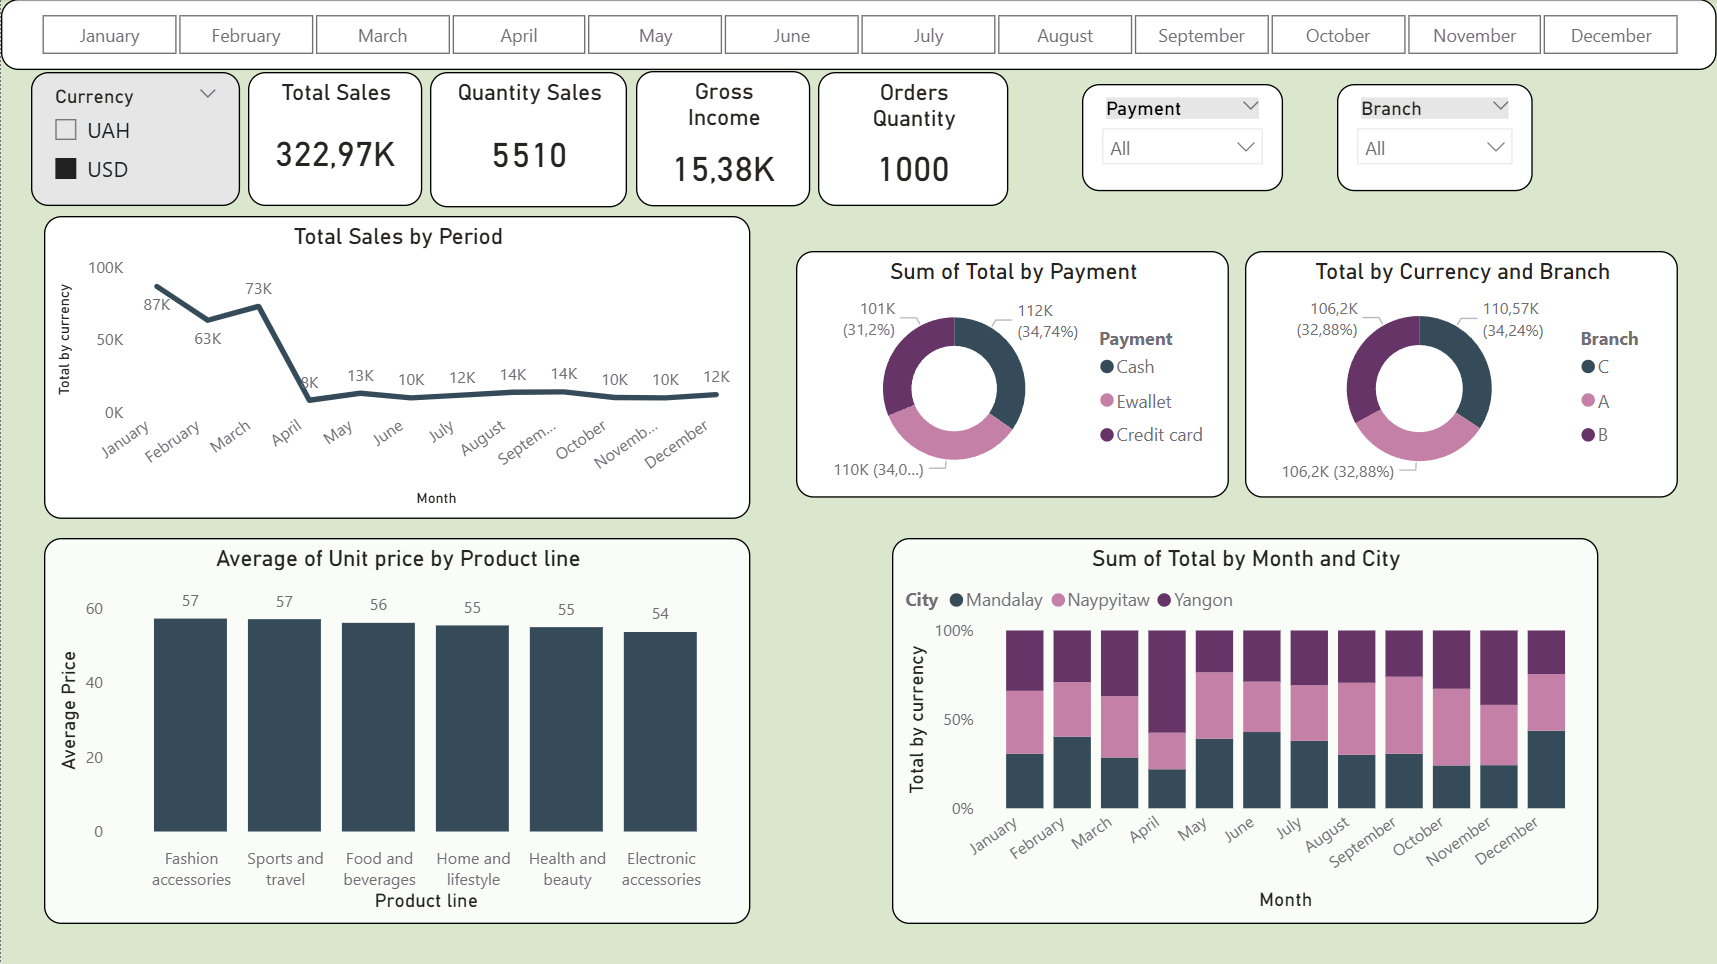

The dashboard page shown, as its layout file describes it:
{"tool":"powerbi","page":{"name":"Page 2","canvas":[1280,720],"ordinal":0},"visuals":[{"type":"lineChart","title":"Total Sales by Period","fields":{"Category":["DATA.Date.Variation.Date Hierarchy.Month"],"Y":["DATA.Total by currency"]},"box":[32.1,161.9,526.8,226.1],"z":0},{"type":"clusteredColumnChart","title":"Average of Unit price by Product line","fields":{"Category":["DATA.Product line"],"Y":["DATA.Average Price"]},"box":[32.1,402.2,526.8,288],"z":1000},{"type":"hundredPercentStackedColumnChart","title":"Sum of Total by Month and City","fields":{"Category":["DATA.Date.Variation.Date Hierarchy.Month"],"Y":["DATA.Total by currency"],"Series":["DATA.City"]},"box":[664.8,402.2,526.8,288],"z":2000},{"type":"slicer","fields":{"Values":["DATA.Date.Variation.Date Hierarchy.Month"]},"box":[0,0,1280.3,53],"z":3000},{"type":"donutChart","fields":{"Category":["DATA.Payment"],"Y":["Sum(DATA.Total)"]},"box":[593.2,188,323.1,184.3],"z":4000},{"type":"donutChart","title":"Total by Currency and Branch","fields":{"Category":["DATA.Branch"],"Y":["DATA.Total by currency"]},"box":[928.2,188,323.1,184.3],"z":5000},{"type":"slicer","fields":{"Values":["Currency.Currency"]},"box":[22.4,54.5,155.9,100],"z":6000},{"type":"card","title":"Quantity Sales","fields":{"Values":["Sum(DATA.Quantity)"]},"box":[320.1,54.5,147,101.5],"z":7000},{"type":"card","title":"Gross Income","fields":{"Values":["DATA.gross income by currency"]},"box":[473.8,53.7,129.8,101.5],"z":8000},{"type":"card","title":"Total Sales","fields":{"Values":["DATA.Total by currency"]},"box":[184.3,54.5,129.8,100],"z":9000},{"type":"card","title":"Orders Quantity","fields":{"Values":["CountNonNull(DATA.Invoice ID)"]},"box":[609.6,54.5,141.8,100],"z":10000},{"type":"slicer","fields":{"Values":["DATA.Payment"]},"box":[806.5,63.4,150,79.8],"z":11000},{"type":"slicer","fields":{"Values":["DATA.Branch"]},"box":[996.8,63.4,146.2,79.8],"z":12000}]}

Visuals, with their boxes in screenshot pixels (x1, y1, x2, y2), scaled from the page's 1280x720 canvas onto the 1717x964 screenshot:
"Total Sales by Period" lineChart: left=43, top=217, right=750, bottom=519
"Average of Unit price by Product line" clusteredColumnChart: left=43, top=539, right=750, bottom=924
"Sum of Total by Month and City" hundredPercentStackedColumnChart: left=892, top=539, right=1598, bottom=924
slicer - DATA.Date.Variation.Date Hierarchy.Month: left=0, top=0, right=1716, bottom=71
donutChart - DATA.Payment x Sum(DATA.Total): left=796, top=252, right=1229, bottom=498
"Total by Currency and Branch" donutChart: left=1245, top=252, right=1679, bottom=498
slicer - Currency.Currency: left=30, top=73, right=239, bottom=207
"Quantity Sales" card: left=429, top=73, right=627, bottom=209
"Gross Income" card: left=636, top=72, right=810, bottom=208
"Total Sales" card: left=247, top=73, right=421, bottom=207
"Orders Quantity" card: left=818, top=73, right=1008, bottom=207
slicer - DATA.Payment: left=1082, top=85, right=1283, bottom=192
slicer - DATA.Branch: left=1337, top=85, right=1533, bottom=192
